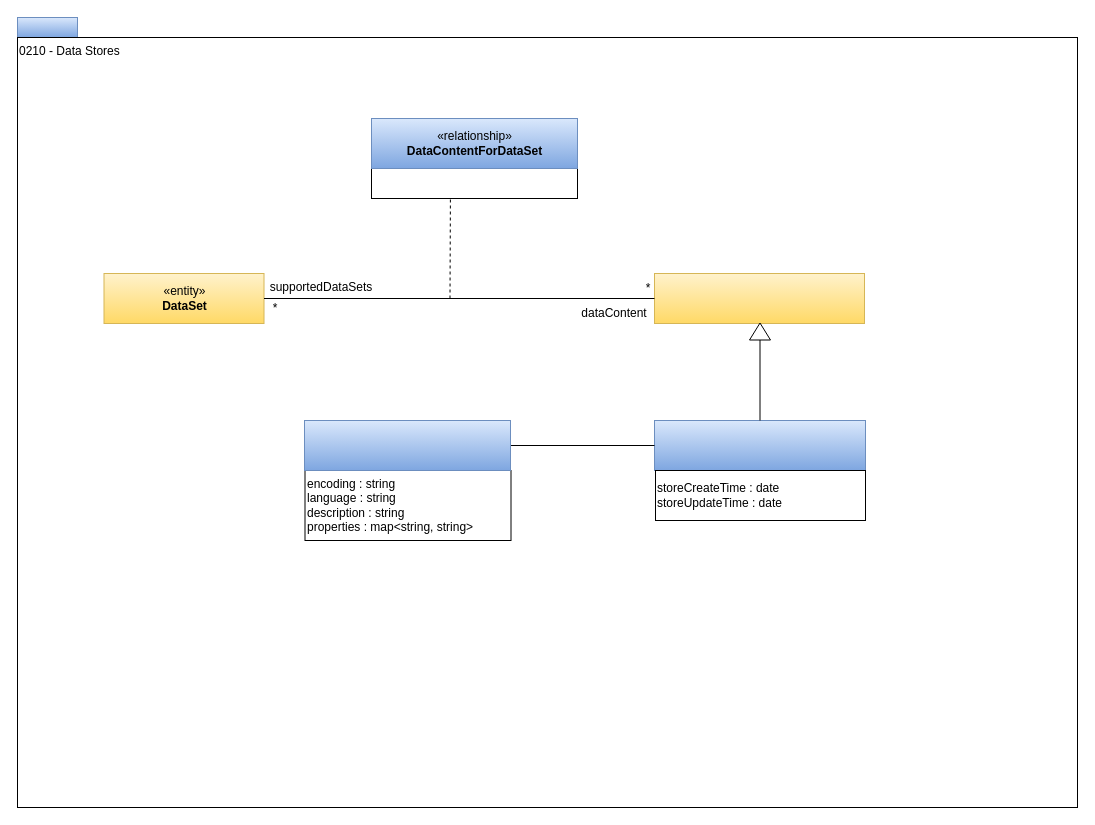
This 1095x825 diagram has some shape labels left out. The shapes that lost their labels are listed below. From the top down, each one's box as (x1, y1, x2, y2) in pixels, then its label:
(654, 272, 864, 324): «entity» Asset
(304, 420, 510, 470): «classification» DataStoreEncoding
(654, 420, 866, 470): «entity» DataStore
